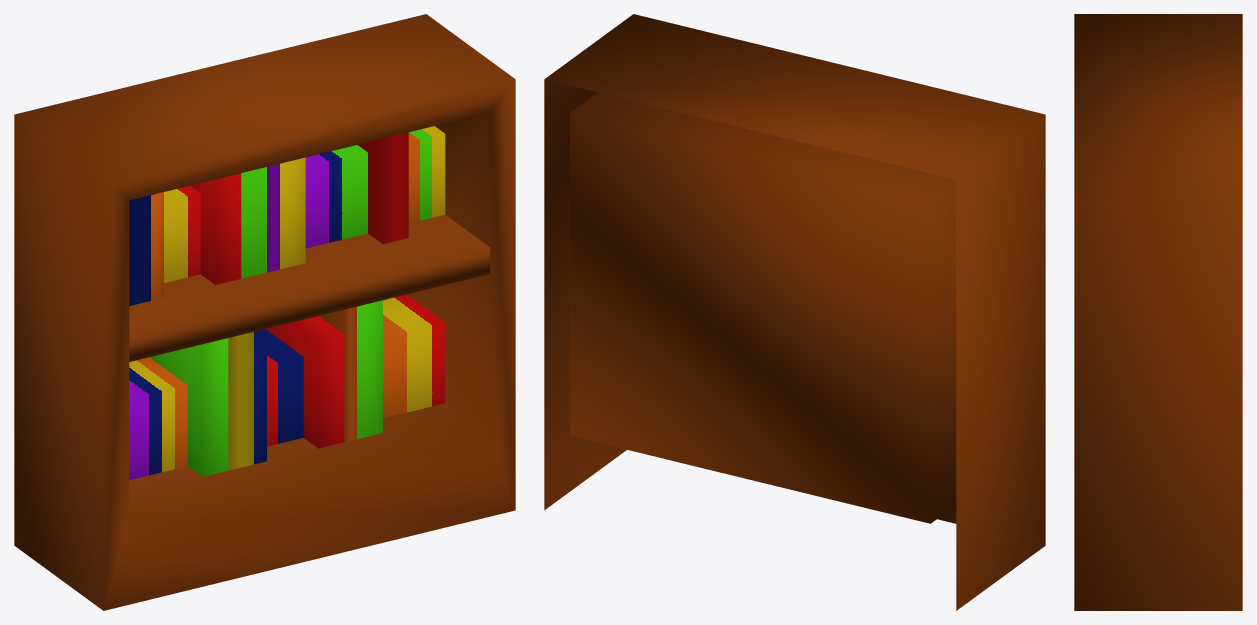
Rendered from Bookcase.fbx.
3 renders of one model, left to right at view 1: azimuth 30°, elevation 25°; view 2: azimuth 150°, elevation 25°; view 3: azimuth 270°, elevation 25°, orthographic. The views are drawn at different scales.
Parts seen in each view (by area): view 1: Cube; view 2: Cube; view 3: Cube.
Part boxes in pixels (x1,y1,x2,y2): Cube: [14, 14, 515, 610]; Cube: [544, 14, 1045, 610]; Cube: [1074, 14, 1242, 610].
Bounding box in the file's own units: 64 × 64 × 24.
